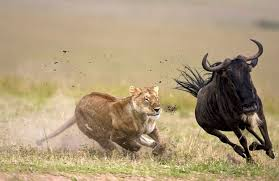buffalo: (175, 33, 278, 164)
lion: (67, 77, 173, 160)
